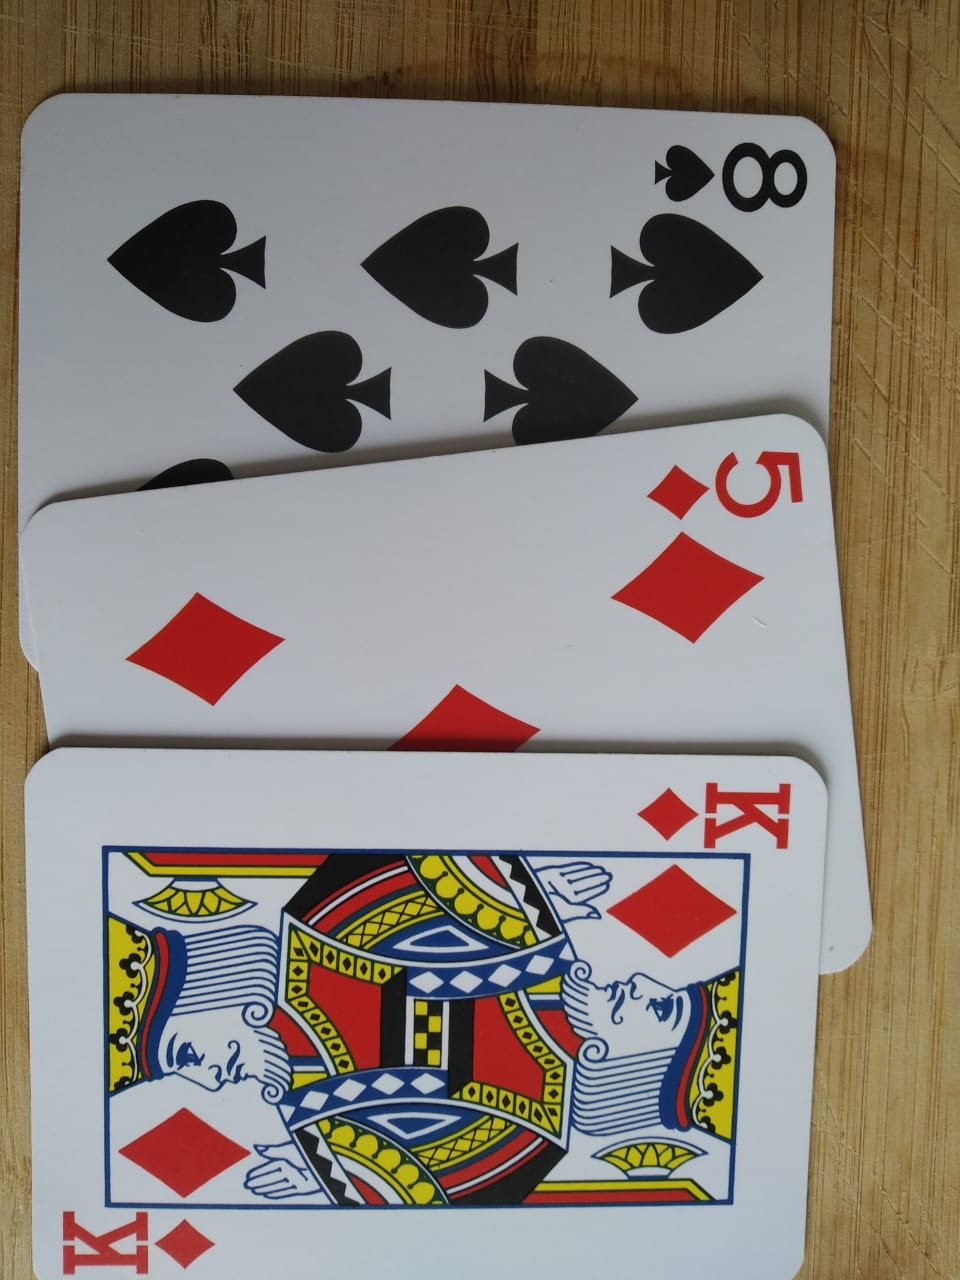eight: (11, 72, 860, 680)
five: (36, 392, 901, 1035)
king: (14, 743, 846, 1280)
